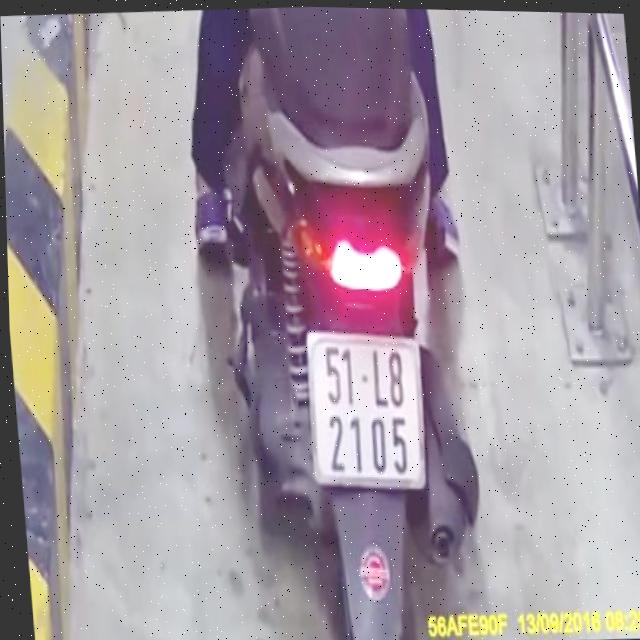motorcycle: (206, 21, 502, 640)
plate: (298, 322, 435, 502)
